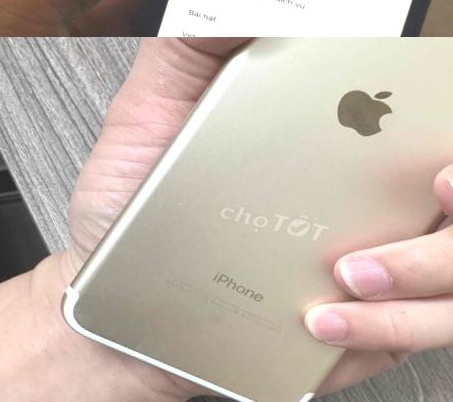scratch: (396, 37, 420, 42)
